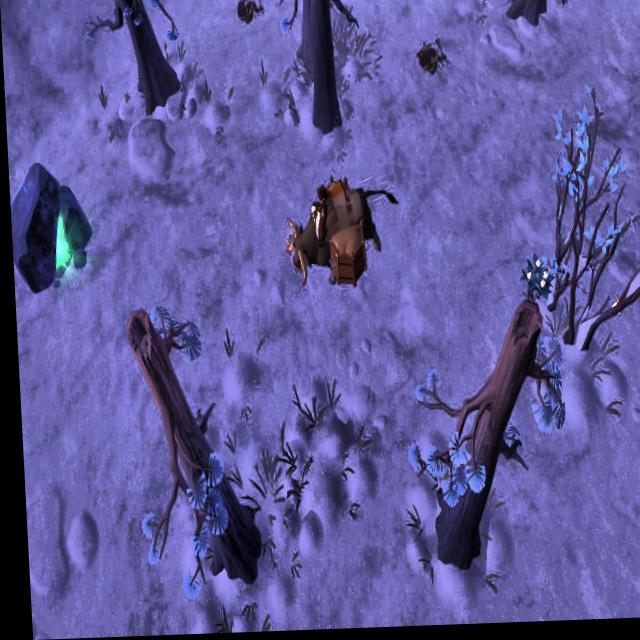fiber_t4: (516, 255, 552, 312)
